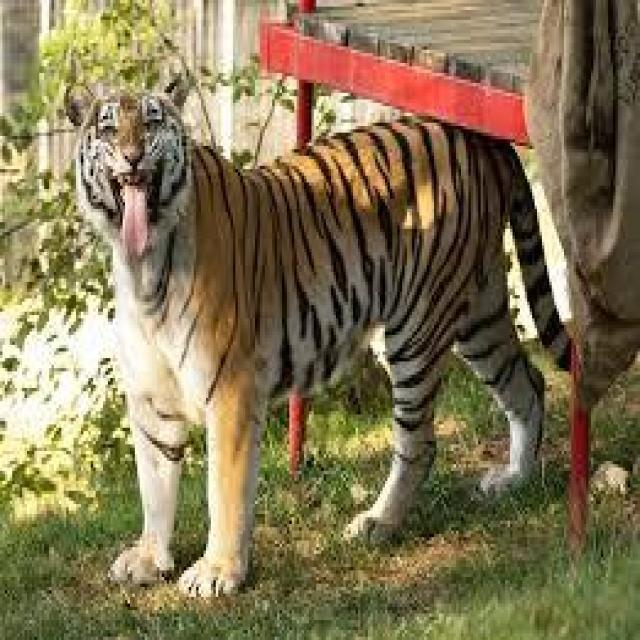Tiger: (44, 65, 554, 602)
